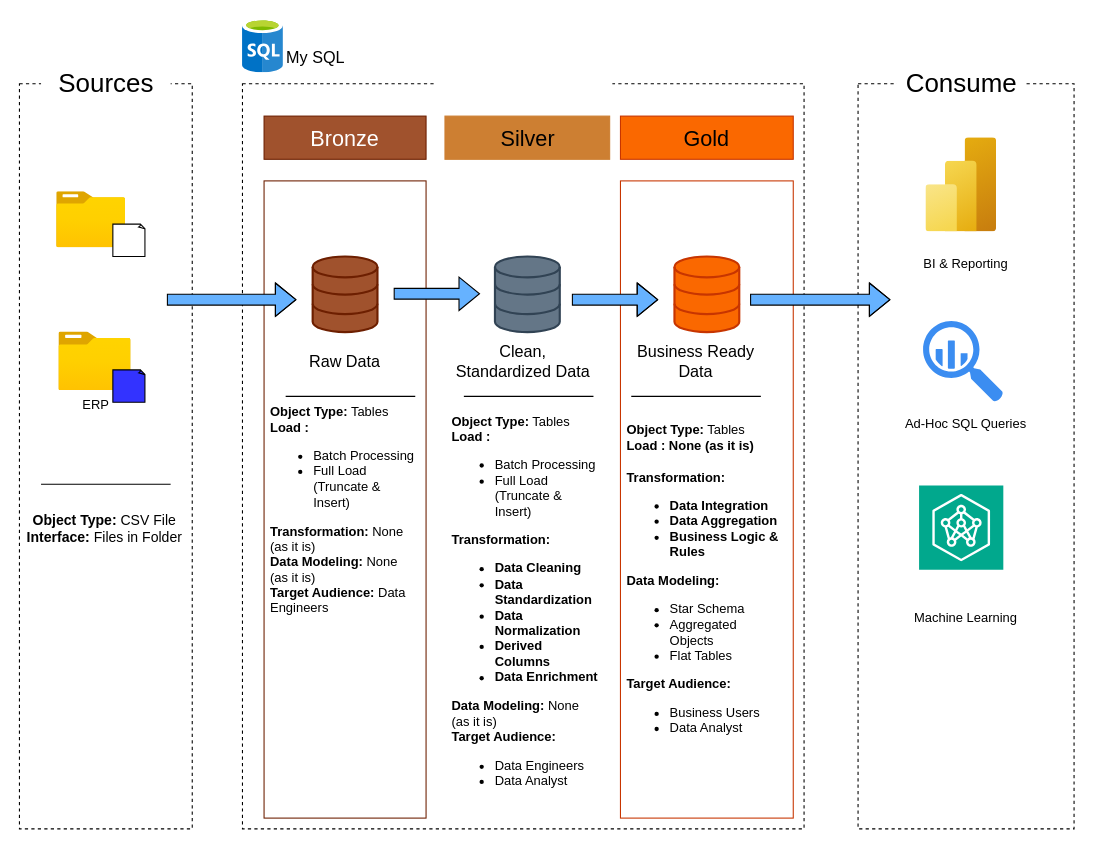
Some shapes in this 1093 by 848 pixel diagram are drawn without their labels. Each missing label, with the centre of its shape:
"CRM" goes at (90,219).
"Data Warehouse" goes at (523,83).
